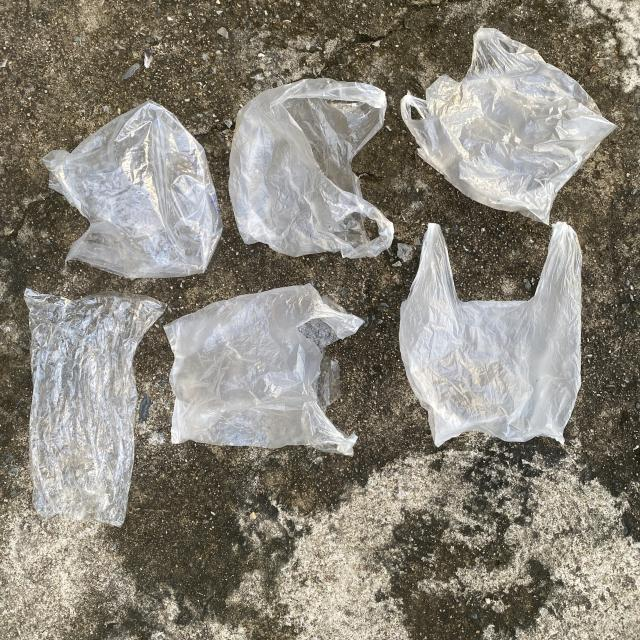Single-layer Plastic: (401, 28, 615, 224), (399, 222, 581, 446), (164, 284, 364, 455), (24, 289, 165, 526), (42, 101, 222, 279), (229, 79, 394, 259)
